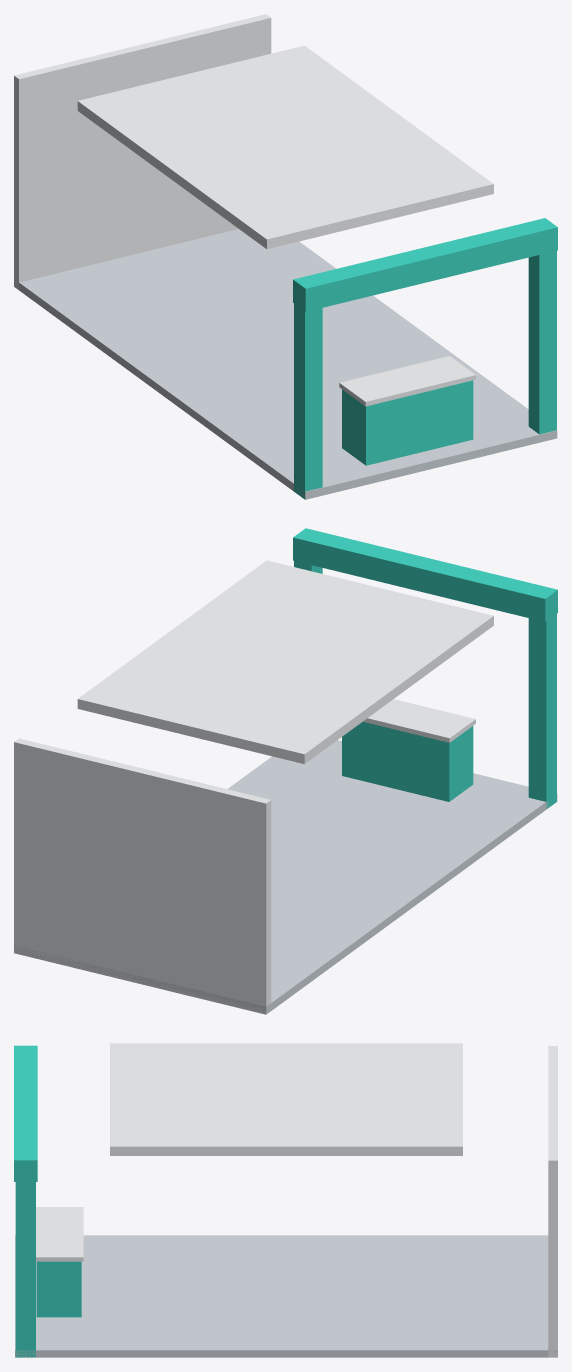
3 views of the same model, one above another, from view 1: azimuth 30°, elevation 25°; view 2: azimuth 150°, elevation 25°; view 3: azimuth 270°, elevation 25° (orthographic). The views are drawn at different scales.
Parts seen in each view (by area): view 1: Exhibition Booth Concept; view 2: Exhibition Booth Concept; view 3: Exhibition Booth Concept.
Boxes of the visible parts, x1=… form: Exhibition Booth Concept: x1=14, y1=14, x2=557, y2=499; Exhibition Booth Concept: x1=14, y1=528, x2=557, y2=1014; Exhibition Booth Concept: x1=14, y1=1043, x2=557, y2=1357.
Bounding box in the file's own units: 4 × 3.34 × 8.01.
